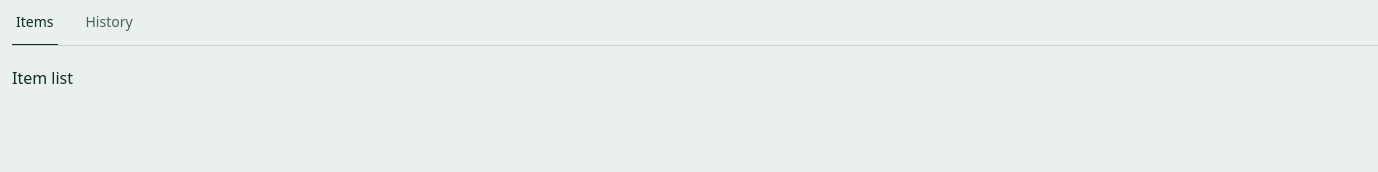
Test case: tabs and toast › switches tabs by click and with the arrow keys
The width and height of the screenshot is (1378, 172).
Check: the panel reads "Item list", box [12,67,73,89]
Click the tab "Items" at (35, 29), box [12,12,58,46]
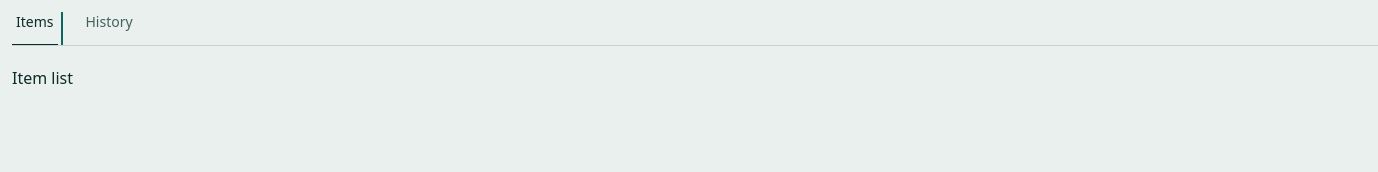
Press Arrowright
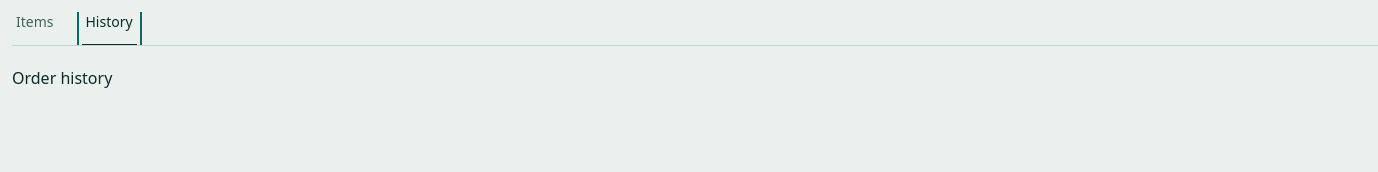
Check: the panel reads "Order history", box [12,67,112,89]
